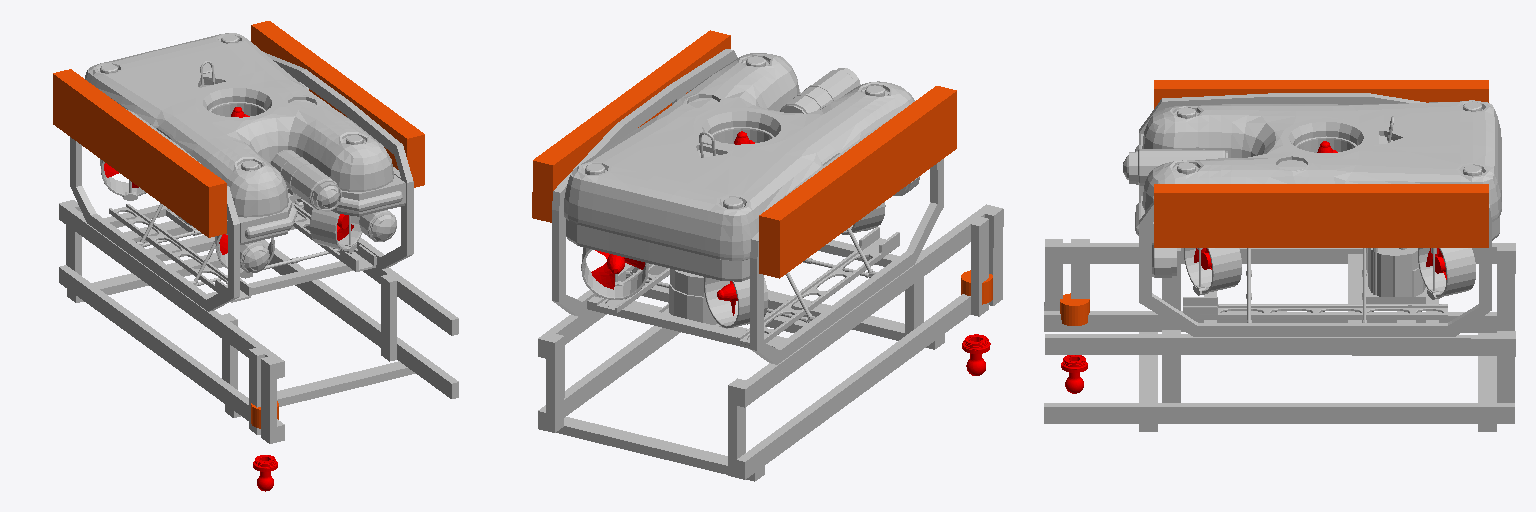
URDF robot description (falcon_bravo7_no_ee):
<?xml version="1.0"?>
<robot name="falcon_bravo7_no_ee">

    <material name="green">
            <color rgba="0.235 0.702 0.443 1"/>
    </material>

    <material name="blue">
            <color rgba="0.263 0.733 0.984 1"/>
    </material>

    <material name="purple">
            <color rgba="0.5 0.733 0.984 1"/>
    </material>

    <material name="red">
            <color rgba="1 0 0 1"/>
    </material>

    <material name="black">
            <color rgba="0.8 0.8 0.8 1"/>
    </material>

    <material name="orange">
            <color rgba="1 0.369 0.047 1"/>
    </material>

            <link name="falcon">
                <!--Inertial parameters are not correct-->
                <inertial>
                    <mass value="200.0"/>
                    <origin xyz="0 0 0"/>
                    <inertia ixx="0.01152" ixy="0.0" ixz="0.0" iyy="0.01152" iyz="0.0" izz="0.0218"/>
                </inertial>
                <visual>
                    <origin rpy="0 0 0" xyz="0 0 0"/>
                    <geometry>
                        <mesh filename="package://example-robot-data/robots/falcon_description/meshes/falcon_rov.stl"/>
                    </geometry>
                    <material name="black"/>
                </visual>
                <collision>
                    <origin rpy="0 0 0" xyz="0 0 0"/>
                    <geometry>
                        <mesh filename="package://example-robot-data/robots/falcon_description/meshes/falcon_rov_convex_hull.stl"/>
                    </geometry>
                </collision>
            </link>

            <link name="chassis">
                <!--Inertial parameters are not correct-->
                <inertial>
                    <mass value="200.0"/>
                    <origin xyz="0 0 0"/>
                    <inertia ixx="0.01152" ixy="0.0" ixz="0.0" iyy="0.01152" iyz="0.0" izz="0.0218"/>
                </inertial>
                <visual>
                    <origin rpy="0 0 0" xyz="0 0 0"/>
                    <geometry>
                        <mesh filename="package://example-robot-data/robots/falcon_description/meshes/chassis_rov.stl"/>
                    </geometry>
                    <material name="black"/>
                </visual>
                <collision>
                    <origin rpy="0 0 0" xyz="0 0 0"/>
                    <geometry>
                        <mesh filename="package://example-robot-data/robots/falcon_description/meshes/chassis_rov_convex_hull.stl"/>
                    </geometry>
                </collision>
            </link>

                    <joint name="falcon2chassis" type="fixed">
                        <parent link="falcon"/>
                        <child link="chassis"/>
                        <origin rpy="-1.57 3.14  0" xyz="0.295 -0.73 -0.275"/>
                    </joint>

            <link name="floaterR">
                <!--Inertial parameters are not correct-->
                <inertial>
                    <mass value="2.0"/>
                    <origin xyz="0 0 0"/>
                    <inertia ixx="0.01152" ixy="0.0" ixz="0.0" iyy="0.01152" iyz="0.0" izz="0.0218"/>
                </inertial>
                <visual>
                    <origin rpy="0 0 0" xyz="0 0 0"/>
                    <geometry>
                        <mesh filename="package://example-robot-data/robots/falcon_description/meshes/floater.stl"/>
                    </geometry>
                    <material name="orange"/>
                </visual>
                <collision>
                    <origin rpy="0 0 0" xyz="0 0 0"/>
                    <geometry>
                        <mesh filename="package://example-robot-data/robots/falcon_description/meshes/floater.stl"/>
                    </geometry>
                </collision>
            </link>

                    <joint name="falcon2floaterR" type="fixed">
                        <parent link="falcon"/>
                        <child link="floaterR"/>
                        <origin rpy="-1.57 0 -1.57" xyz="0.29 0.45 0.45"/>
                    </joint>

            <link name="floaterL">
                <!--Inertial parameters are not correct-->
                <inertial>
                    <mass value="2.0"/>
                    <origin xyz="0 0 0"/>
                    <inertia ixx="0.01152" ixy="0.0" ixz="0.0" iyy="0.01152" iyz="0.0" izz="0.0218"/>
                </inertial>
                <visual>
                    <origin rpy="0 0 0" xyz="0 0 0"/>
                    <geometry>
                        <mesh filename="package://example-robot-data/robots/falcon_description/meshes/floater.stl"/>
                    </geometry>
                    <material name="orange"/>
                </visual>
                <collision>
                    <origin rpy="0 0 0" xyz="0 0 0"/>
                    <geometry>
                        <mesh filename="package://example-robot-data/robots/falcon_description/meshes/floater.stl"/>
                    </geometry>
                </collision>
            </link>

                    <joint name="falcon2floaterL" type="fixed">
                        <parent link="falcon"/>
                        <child link="floaterL"/>
                        <origin rpy="-1.57 0 -1.57" xyz="-0.365 0.45 0.45"/>
                    </joint>

            <!--PROPELLERS-->
            <link name="top_propeller">
                <visual>
                    <geometry>
                        <mesh filename="package://example-robot-data/robots/falcon_description/meshes/propeller_rov.stl"/>
                    </geometry>
                    <material name="red"/>
                </visual>
            </link>

            <link name="FR_propeller">
                <visual>
                    <geometry>
                        <mesh filename="package://example-robot-data/robots/falcon_description/meshes/propeller_rov.stl"/>
                    </geometry>
                    <material name="red"/>
                </visual>
            </link>

            <link name="FL_propeller">
                <visual>
                    <geometry>
                        <mesh filename="package://example-robot-data/robots/falcon_description/meshes/propeller_rov.stl"/>
                    </geometry>
                    <material name="red"/>
                </visual>
            </link>

            <link name="BL_propeller">
                <visual>
                    <geometry>
                        <mesh filename="package://example-robot-data/robots/falcon_description/meshes/propeller_rov.stl"/>
                    </geometry>
                    <material name="red"/>
                </visual>
            </link>

            <link name="BR_propeller">
                <visual>
                    <geometry>
                        <mesh filename="package://example-robot-data/robots/falcon_description/meshes/propeller_rov.stl"/>
                    </geometry>
                    <material name="red"/>
                </visual>
            </link>

                    <joint name="top_propeller_joint" type="fixed">
                        <parent link="falcon"/>
                        <child link="top_propeller"/>
                        <origin rpy="0.0 1.57 0" xyz="-0.005 0.015 0.35"/>
                    </joint>

                    <joint name="BR_propeller_joint" type="fixed">
                        <parent link="falcon"/>
                        <child link="BR_propeller"/>
                        <origin rpy="0.0 0.0 -2.0944" xyz="-0.19 0.31 0.165"/>
                    </joint>

                    <joint name="BL_propeller_joint" type="fixed">
                        <parent link="falcon"/>
                        <child link="BL_propeller"/>
                        <origin rpy="0.0 0.0 -1.0472" xyz="0.19 0.31 0.165"/>
                    </joint>

                    <joint name="FL_propeller_joint" type="fixed">
                        <parent link="falcon"/>
                        <child link="FL_propeller"/>
                        <origin rpy="0.0 0.0 -1.0472" xyz="0.165 -0.307 0.165"/>
                    </joint>

                    <joint name="FR_propeller_joint" type="fixed">
                        <parent link="falcon"/>
                        <child link="FR_propeller"/>
                        <origin rpy="0.0 0.0 -2.094395327" xyz="-0.165 -0.307 0.165"/>
                    </joint>

                    <joint name="base2arm" type="fixed">
                        <parent link="falcon"/>
                        <child link="link1"/>
                        <origin rpy="0 0 3.14" xyz="-0.325 -0.65 -0.09"/>
                    </joint>

          <!-- Bravo7 with sphere end-effector -->
            <link name="link1">
                <visual>
                    <geometry>
                        <mesh filename="package://example-robot-data/robots/bravo7_description/meshes/RS2-266.stl"/>
                    </geometry>
                    <material name="blue"/>
                </visual>
                <inertial>
                    <mass value="1.25"/>
                    <origin xyz="-0.075 -0.006 -0.003"/>
                    <inertia ixx="0.002108" ixy="0.000182" ixz="-0.000015" iyy="0.002573" iyz="-0.000021" izz="0.003483"/>
                </inertial>
                <collision>
                    <geometry>
                        <mesh filename="package://example-robot-data/robots/bravo7_description/meshes/RS2-266_convex_hull.stl"/>
                    </geometry>
                </collision>
            </link>

                    <joint name="joint1" type="continuous">
                        <parent link="link1"/>
                        <child link="link2"/>
                        <origin rpy="3.141592654 0 0" xyz="0.0665 0 0.078"/>
                        <axis xyz="0 0 1"/>
                    </joint>

            <link name="link2">
                <visual>
                    <origin xyz="0 0 0" rpy="-3.141592654 0 0"/>
                    <geometry>
                        <mesh filename="package://example-robot-data/robots/bravo7_description/meshes/RS2-217.stl"/>
                    </geometry>
                    <material name="green"/>
                </visual>
                <inertial>
                        <mass value="1.55" />
                        <inertia ixx="0.011442" ixy="-0.000484" ixz="0.003405" iyy="0.01298" iyz="-0.001265" izz="0.003202"/>
                        <origin xyz="0.005 -0.001 0.016" rpy="-3.141592654 0 0"/>
                </inertial>
                <collision>
                    <origin xyz="0 0 0" rpy="-3.141592654 0 0"/>
                    <geometry>
                        <mesh filename="package://example-robot-data/robots/bravo7_description/meshes/RS2-217_convex_hull.stl"/>
                    </geometry>
                </collision>
            </link>

                    <joint name="joint2" type="revolute">
                        <parent link="link2"/>
                        <child link="link3"/>
                        <origin rpy="3.141592654 0 0" xyz="-0.046 0 -0.0674"/>
                        <axis xyz="0 1 0"/>
                        <limit effort="9.0" lower="0.0" upper="3.5" velocity="0.5"/>
                    </joint>

            <link name="link3">
                <visual>
                    <geometry>
                        <mesh filename="package://example-robot-data/robots/bravo7_description/meshes/RS2-250-212-214.stl"/>
                    </geometry>
                    <material name="blue"/>
                </visual>
                <inertial>
                    <mass value="1.14" />
                    <origin xyz="0.022 -0.029 0.001" />
                    <inertia ixx="0.003213" ixy="-0.001548" ixz="-0.000031" iyy="0.002327" iyz="0.000006" izz="0.00434"/>
                </inertial>
                <collision>
                    <geometry>
                        <mesh filename="package://example-robot-data/robots/bravo7_description/meshes/RS2-250-212-214_convex_hull.stl"/>
                    </geometry>
                </collision>
            </link>

                    <joint name="joint3" type="revolute">
                        <parent link="link3"/>
                        <child link="link4"/>
                        <origin rpy="0 0 0" xyz="-0.0052 0 -0.29055"/>
                        <axis xyz="0 1 0"/>
                        <limit effort="9.0" lower="0.0" upper="3.5" velocity="0.5"/>
                    </joint>

            <link name="link4">
                <visual>
                    <geometry>
                        <mesh filename="package://example-robot-data/robots/bravo7_description/meshes/RS2-268.stl"/>
                    </geometry>
                    <material name="green"/>
                </visual>
                <collision>
                    <geometry>
                        <mesh filename="package://example-robot-data/robots/bravo7_description/meshes/RS2-268_convex_hull.stl"/>
                    </geometry>
                    <material name="green"/>
                </collision>
                <inertial>
                    <origin xyz="0.017 -0.026 -0.002" rpy="0.0 -0.0 0.0" />
                    <mass value="1.14" />
                    <inertia ixx="0.021232" ixy="0.00033" ixz="-0.003738" iyy="0.022252" iyz="-0.001278" izz="0.002054"/>
                </inertial>
            </link>

                    <joint name="joint4" type="continuous">
                        <parent link="link4"/>
                        <child link="link5"/>
                        <origin rpy="3.141592654 0 0" xyz="0.0408 0 0.09695"/>
                        <axis xyz="0 0 1"/>
                    </joint>

            <link name="link5">
                <visual>
                    <origin xyz="0 0 0" rpy="-3.141592654 0 0"/>
                    <geometry>
                        <mesh filename="package://example-robot-data/robots/bravo7_description/meshes/RS2-214.stl"/>
                    </geometry>
                    <material name="blue"/>
                </visual>
                <inertial>
                    <mass value="1.03" />
                    <origin xyz="0.020 -0.024 0.001" rpy="-3.141592654 0 0"/>
                    <inertia ixx="0.00243" ixy="-0.001144" ixz="-0.00004" iyy="0.002026" iyz="0.000011" izz="0.00333"/>
                </inertial>
                <collision>
                    <origin xyz="0 0 0" rpy="-3.141592654 0 0"/>
                    <geometry>
                        <mesh filename="package://example-robot-data/robots/bravo7_description/meshes/RS2-214_convex_hull.stl"/>
                    </geometry>
                </collision>
            </link>

                    <joint name="joint5" type="revolute">
                        <parent link="link5"/>
                        <child link="link6"/>
                        <origin rpy="3.141592654 0 0" xyz="-0.0408 0 -0.063"/>
                        <axis xyz="0 1 0"/>
                        <limit effort="9.0" lower="0.0" upper="3.5" velocity="0.5"/>
                    </joint>

            <link name="link6">
                <visual>
                    <geometry>
                        <mesh filename="package://example-robot-data/robots/bravo7_description/meshes/RS2-161.stl"/>
                    </geometry>
                    <material name="green"/>
                </visual>
                <inertial>
                    <origin xyz="0.0 0.003 -0.098" rpy="0.0 -0.0 0.0" />
                    <mass value="0.333" />
                    <inertia ixx="0.003709" ixy="-0.000002" ixz="-0.000004" iyy="0.003734" iyz="0.0" izz="0.000079" />
                </inertial>
                <collision>
                    <geometry>
                        <mesh filename="package://example-robot-data/robots/bravo7_description/meshes/RS2-161_convex_hull.stl"/>
                    </geometry>
                </collision>
            </link>

                    <joint name="joint6" type="continuous">
                        <parent link="link6"/>
                        <child link="link7"/>
                        <origin rpy="0 3.14159 0" xyz="-0.0408 0 -0.14863"/>
                        <axis xyz="0 0 1"/>
                    </joint>

            <link name="link7">
                <visual>
                    <geometry>
                        <mesh filename="package://example-robot-data/robots/bravo7_description/meshes/RS2-180.stl"/>
                    </geometry>
                    <material name="blue"/>
                </visual>
                <inertial>
                    <origin xyz="0.0 0.003 -0.098" />
                    <mass value="1.04" />
                    <inertia ixx="0.022359" ixy="0.000001" ixz="-0.000019" iyy="0.022363" iyz="0.000015" izz="0.000936"/>
                </inertial>
                <collision>
                    <geometry>
                        <mesh filename="package://example-robot-data/robots/bravo7_description/meshes/RS2-180_convex_hull.stl"/>
                    </geometry>
                </collision>
            </link>

            <link name="force_torque_sensor">
                <visual>
                    <geometry>
                        <cylinder length="0.06" radius="0.04"/>
                    </geometry>
                    <material name="orange"/>
                </visual>
                <collision>
                    <geometry>
                        <cylinder length="0.06" radius="0.04"/>
                    </geometry>
                    <material name="orange"/>
                </collision>
            </link>

                    <joint name="FT_fixed_1" type="fixed">
                        <origin rpy="0 0 1.57" xyz=" 0 0 -0.03"/>
                        <parent link="link7"/>
                        <child link="force_torque_sensor"/>
                    </joint>

            <link name="end_effector_ball">
                <visual>
                    <geometry>
                        <mesh filename="package://example-robot-data/robots/bravo7_description/meshes/end_effectors/contact_sphere.stl"/>
                    </geometry>
                    <material name="red"/>
                </visual>
                <collision>
                    <geometry>
                        <mesh filename="package://example-robot-data/robots/bravo7_description/meshes/end_effectors/contact_sphere_convex_hull.stl"/>
                    </geometry>
                    <material name="red"/>
                </collision>
            </link>

                    <joint name="bravo_EE_joint" type="fixed">
                        <origin rpy="0 -1.57 0" xyz=" 0.045 -0.035 0.113"/>
                        <parent link="link7"/>
                        <child link="end_effector_ball"/>
                    </joint>

            <link name="contact_point"/>

                    <joint name="contact_point_joint" type="fixed">
                        <origin rpy="0 0 0" xyz="0 0 0.24"/>
                        <parent link="force_torque_sensor"/>
                        <child link="contact_point"/>
                    </joint>
</robot>

--- Facts derived from the render (not from the file) ---
The picture shows the robot from 3 angles, left to right: view 1: azimuth 30°, elevation 25°; view 2: azimuth 150°, elevation 25°; view 3: azimuth 270°, elevation 25°; orthographic projection.
Robot: falcon_bravo7_no_ee — 19 links, 18 joints (3 revolute, 3 continuous, 12 fixed); root link falcon; default pose: all joints at 0.
Visible links, largest first — view 1: falcon, chassis, floaterL, floaterR, end_effector_ball; view 2: falcon, chassis, floaterL, floaterR, BL_propeller, end_effector_ball; view 3: falcon, chassis, floaterR, floaterL, force_torque_sensor, end_effector_ball.
Boxes of the visible links, x1,y1,x2,y2 form: falcon: (70, 33, 413, 311); chassis: (59, 200, 458, 443); floaterL: (53, 69, 226, 237); floaterR: (251, 21, 424, 187); end_effector_ball: (253, 455, 277, 491); falcon: (552, 49, 943, 364); chassis: (538, 204, 1003, 481); floaterL: (759, 86, 956, 278); floaterR: (532, 30, 730, 222); BL_propeller: (591, 250, 644, 289); end_effector_ball: (962, 334, 990, 375); falcon: (1123, 93, 1501, 336); chassis: (1044, 239, 1515, 431); floaterR: (1154, 184, 1488, 247); floaterL: (1154, 80, 1488, 108); force_torque_sensor: (1060, 293, 1089, 325); end_effector_ball: (1061, 355, 1087, 393).
Bounding box of the posed robot: 0.7158 × 1.25 × 0.9454 m (x, y, z).
Meshes: 12 distinct files referenced, 10 mesh visuals loaded (5 binary STL); not drawn: 7 (reference not matched to a file when rendering).